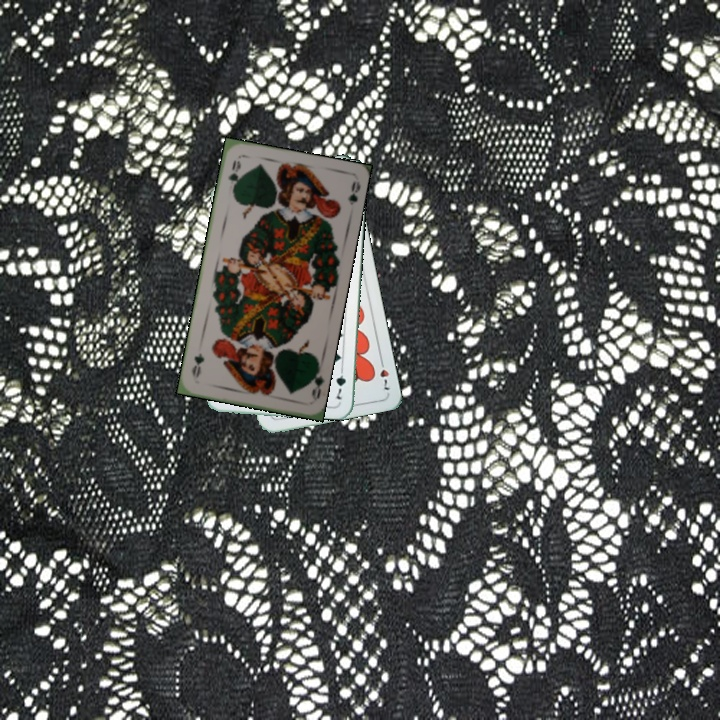G7: (331, 363, 348, 402)
GO: (305, 362, 326, 403), (224, 156, 244, 195)
H7: (376, 354, 392, 394)
